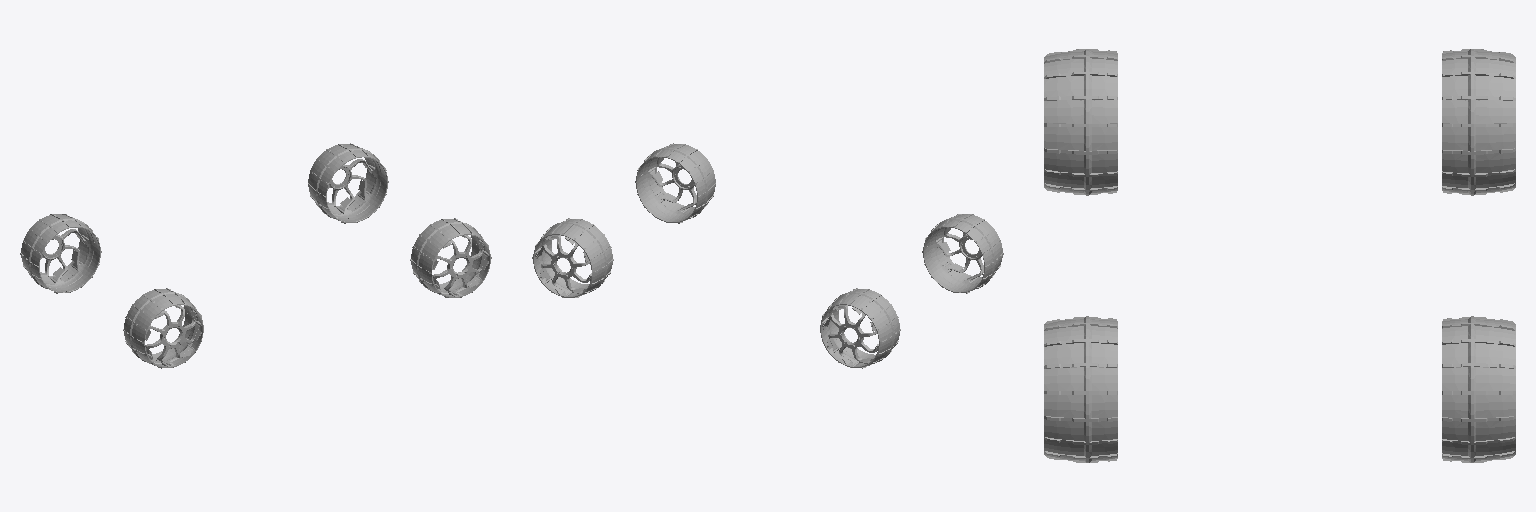
--- What the picture shows (computed from the rendered views, not written in the file) ---
Views: 3 orthographic renders of the robot side by side, from view 1: azimuth 30°, elevation 25°; view 2: azimuth 150°, elevation 25°; view 3: azimuth 270°, elevation 25°.
Model Archimede with 29 links and 28 joints (4 revolute, 4 continuous, 20 fixed), rooted at Archimede_base_link, posed all joints at 0.
Links seen in each view (by area): view 1: Archimede_br_wheel_link, Archimede_fl_wheel_link, Archimede_bl_wheel_link, Archimede_fr_wheel_link; view 2: Archimede_fr_wheel_link, Archimede_bl_wheel_link, Archimede_fl_wheel_link, Archimede_br_wheel_link; view 3: Archimede_fl_wheel_link, Archimede_bl_wheel_link, Archimede_fr_wheel_link, Archimede_br_wheel_link.
Boxes of the visible links, <box> form: Archimede_br_wheel_link: <box>123,288,203,368</box>; Archimede_fl_wheel_link: <box>308,143,388,223</box>; Archimede_bl_wheel_link: <box>20,214,101,293</box>; Archimede_fr_wheel_link: <box>410,218,491,297</box>; Archimede_fr_wheel_link: <box>635,143,715,223</box>; Archimede_bl_wheel_link: <box>820,288,900,368</box>; Archimede_fl_wheel_link: <box>532,218,613,297</box>; Archimede_br_wheel_link: <box>922,214,1003,293</box>; Archimede_fl_wheel_link: <box>1442,316,1515,462</box>; Archimede_bl_wheel_link: <box>1442,49,1515,195</box>; Archimede_fr_wheel_link: <box>1044,316,1117,462</box>; Archimede_br_wheel_link: <box>1044,49,1117,195</box>.
Size in the robot's own frame: 0.9009 by 0.5441 by 0.17 metres.
4 mesh visuals loaded from 3 distinct referenced files (1 binary STL); not drawn: 2 (reference not matched to a file when rendering).

robot.urdf — Archimede:
<?xml version="1.0" encoding="utf-8"?>
<!-- =================================================================================== -->
<!-- |    This document was autogenerated by xacro from rover.urdf.xacro               | -->
<!-- |    EDITING THIS FILE BY HAND IS NOT RECOMMENDED                                 | -->
<!-- =================================================================================== -->
<robot name="Archimede">
  <material name="black">
    <color rgba="0.0 0.0 0.0 1.0"/>
  </material>
  <material name="blue">
    <color rgba="0.0 0.0 0.8 1.0"/>
  </material>
  <material name="green">
    <color rgba="0.0 0.8 0.0 1.0"/>
  </material>
  <material name="gray">
    <color rgba="0.7 0.7 0.7 1.0"/>
  </material>
  <material name="darkgray">
    <color rgba="0.3 0.3 0.3 1.0"/>
  </material>
  <material name="red">
    <color rgba="0.8 0.0 0.0 1.0"/>
  </material>
  <material name="white">
    <color rgba="1.0 1.0 1.0 1.0"/>
  </material>
  <material name="yellow">
    <color rgba="0.8 0.8 0.0 1.0"/>
  </material>
  <material name="aluminum">
    <color rgba="0.5 0.5 0.5 1"/>
  </material>
  <material name="plastic">
    <color rgba="0.1 0.1 0.1 1"/>
  </material>
  <!-- Define world link-->
  <link name="Archimede_base_link"/>
  <!-- Define foot print-->
  <!-- <link name="${name}_foot_print"/>
		<joint name="${name}_foot_print_joint" type="fixed">
			<parent link="${name}_base_link_dummy"/>
			<child link="${name}_foot_print"/>
			<origin xyz="0 0 -0.16" rpy="0 0 0"/>
		</joint> -->
  <!-- <gazebo reference="${name}_foot_print_joint">
			<disableFixedJointLumping>true</disableFixedJointLumping> 
			<preserveFixedJoint>true</preserveFixedJoint>
		</gazebo> -->
  <!-- Define rover base link-->
  <link name="Archimede_base_link_dummy">
    <inertial>
      <mass value="1"/>
      <origin rpy="0 0 0" xyz="0 0 0"/>
      <inertia ixx="1.71402" ixy="0.0" ixz="0.0" iyy="0.8856" iyz="0.0" izz="2.5725"/>
    </inertial>
    <visual name="Archimede_body_visual">
      <origin rpy="0 0 0" xyz="0.005 0 0"/>
      <geometry>
        <mesh filename="package://robot4ws_description/meshes/rover_chassis_v7.STL" scale="1 1 1"/>
      </geometry>
      <material name="black"/>
    </visual>
  </link>
  <!-- Define here the joint of the tilt plate to the body -->
  <!-- Dummy joint link for the differential -->
  <!-- <xacro:if value="${has_differential}">
			<link name="${name}_dummy_disk">
				<inertial>
            		<origin xyz="0 0 0" rpy="0 0 0"/>
					<mass value="1e-1"/>
					<inertia ixx="1e-1" ixy="0" ixz="0" iyy="1e-1" iyz="0" izz="1e-1"/>
				</inertial>
				<visual>
					Use disk as simple geometry visualization
					<geometry>
						<cylinder radius="0.05" length="0.05"/>
						<box size="0.20 0.20 0.05"/>
					</geometry>
				</visual>
			</link>
		</xacro:if> -->
  <!-- Define here the joint of the dummy disk -->
  <!-- <xacro:if value="${has_differential}">
			<joint name="${name}_dummy_joint" type="revolute">
				<parent link="${name}_base_link_dummy"/>
				<child link="${name}_dummy_disk"/>
				<origin xyz="0 0 0" rpy="${-pi/2} 0 0"/>
				<axis xyz="0 0 1"/>
				<limit lower="0" upper="0" effort="1e6" velocity="1e6"/>
			</joint>
		</xacro:if> -->
  <!-- <xacro:if value="${has_differential}">
			<gazebo reference="{name}_dummy_joint">
				<disableFixedJointLumping>true</disableFixedJointLumping>
				<preserveFixedJoint>true</preserveFixedJoint>
			</gazebo>
		</xacro:if> -->
  <!-- Define here the color of the dummy disk -->
  <!-- <xacro:if value="${has_differential}">
			<gazebo reference="${name}_dummy_disk">
				<material>Gazebo/Blue</material>
			</gazebo>
		</xacro:if> -->
  <!-- DEFINE HERE THE IMU LINK -->
  <link name="Archimede_imu_link"/>
  <joint name="Archimede_imu_joint" type="fixed">
    <parent link="Archimede_base_link_dummy"/>
    <child link="Archimede_imu_link"/>
    <origin rpy="0 0 0" xyz="0 0 0.08"/>
  </joint>
  <!-- <gazebo reference="${name}_imu_joint">
			<disableFixedJointLumping>true</disableFixedJointLumping> 
			<preserveFixedJoint>true</preserveFixedJoint>
		</gazebo>  -->
  <!-- DEFINE HERE THE SCAN LINK -->
  <link name="Archimede_scan_link"/>
  <joint name="Archimede_scan_joint" type="fixed">
    <parent link="Archimede_base_link_dummy"/>
    <child link="Archimede_scan_link"/>
    <origin rpy="0 0 0" xyz="0 0 0.13"/>
  </joint>
  <!-- DEFINE HERE THE RASPBERRY PI CAMERA LINK -->
  <link name="Archimede_pi_camera_link"/>
  <joint name="Archimede_pi_camera_joint" type="fixed">
    <parent link="Archimede_base_link_dummy"/>
    <child link="Archimede_pi_camera_link"/>
    <origin rpy="0 0 0" xyz="0.15 0 0.075"/>
  </joint>
  <link name="Archimede_pi_camera_color_optical_frame"/>
  <joint name="Archimede_pi_camera_color_optical_joint" type="fixed">
    <parent link="Archimede_pi_camera_link"/>
    <child link="Archimede_pi_camera_color_optical_frame"/>
    <origin rpy="0 0 0" xyz="0 0 0.005"/>
  </joint>
  <link name="Archimede_realsense_d435i_link"/>
  <joint name="Archimede_realsense_joint" type="fixed">
    <parent link="Archimede_base_link_dummy"/>
    <child link="Archimede_realsense_d435i_link"/>
    <origin rpy="0 0 0" xyz="0.15 0 0.2"/>
  </joint>
  <!-- Define here the world joint -->
  <joint name="Archimede_world_joint" type="fixed">
    <parent link="Archimede_base_link"/>
    <child link="Archimede_base_link_dummy"/>
    <origin rpy="0 0 0" xyz="0 0 0"/>
    <axis xyz="0 0 1"/>
  </joint>
  <!-- <gazebo reference="${name}_world_joint">
			<preserveFixedJoint>false</preserveFixedJoint>
		</gazebo> -->
  <gazebo reference="Archimede_base_link">
    <material>Gazebo/Black</material>
  </gazebo>
  <!-- Define here steer link-->
  <link name="Archimede_fl_steer_link">
    <inertial>
      <origin rpy="0 0 0" xyz="0 0 0"/>
      <mass value="1"/>
      <inertia ixx="0.01" ixy="0" ixz="0" iyy="0.01" iyz="0" izz="0.01"/>
    </inertial>
  </link>
  <!-- Define here steer joint -->
  <joint name="Archimede_fl_steer_joint" type="revolute">
    <origin rpy="0 0 0.0" xyz="0.36574 0.2215 -0.07368"/>
    <parent link="Archimede_base_link_dummy"/>
    <child link="Archimede_fl_steer_link"/>
    <axis xyz="0 0 1"/>
    <limit effort="1e6" lower="-3.14" upper="3.14" velocity="1e6"/>
  </joint>
  <!-- Define here wheel link -->
  <link name="Archimede_fl_wheel_link">
    <inertial>
      <origin rpy="0 0 0" xyz="0 0 0"/>
      <mass value="1"/>
      <inertia ixx="0.05" ixy="0" ixz="0" iyy="0.05" iyz="0" izz="0.05"/>
    </inertial>
    <visual>
      <origin rpy="0 0 0" xyz="0 0.016 0"/>
      <geometry>
        <mesh filename="package://robot4ws_description/meshes/wheel_v2.STL" scale="1 1 1"/>
      </geometry>
      <material name="gray"/>
    </visual>
    <collision>
      <origin rpy="1.57079632679 0 0" xyz="0 0 0"/>
      <geometry>
        <sphere radius="0.085"/>
      </geometry>
      <surface>
        <friction>
          <ode>
            <!-- <mu>100.0</mu>
                            <mu2>100.0</mu2> -->
          </ode>
        </friction>
        <contact>
          <ode>
            <!-- <kp>1e8</kp>
                            <kd>1</kd>
                            <min_depth>0.001</min_depth> -->
          </ode>
        </contact>
      </surface>
    </collision>
  </link>
  <!-- Define here drive joint (RIVEDERE) -->
  <joint name="Archimede_fl_drive_joint" type="continuous">
    <origin rpy="0 0 0" xyz="0 0 0"/>
    <parent link="Archimede_fl_steer_link"/>
    <child link="Archimede_fl_wheel_link"/>
    <axis xyz="0 1 0"/>
  </joint>
  <gazebo reference="Archimede_fl_wheel_link">
    <material>Gazebo/Gray</material>
  </gazebo>
  <!-- Define here the transmission -->
  <transmission name="Archimede_fl_drive_transmission}">
    <type>transmission_interface/SimpleTransmission</type>
    <joint name="Archimede_fl_drive_joint">
      <hardwareInterface>hardware_interface/EffortJointInterface</hardwareInterface>
    </joint>
    <actuator name="Archimede_fl_drive_actuator}">
      <mechanicalReduction>1</mechanicalReduction>
    </actuator>
  </transmission>
  <transmission name="Archimede_fl_steer_transmission">
    <type>transmission_interface/SimpleTransmission</type>
    <joint name="Archimede_fl_steer_joint">
      <hardwareInterface>hardware_interface/EffortJointInterface</hardwareInterface>
    </joint>
    <actuator name="Archimede_fl_steer_actuator">
      <mechanicalReduction>1</mechanicalReduction>
    </actuator>
  </transmission>
  <!-- Define here steer link-->
  <link name="Archimede_bl_steer_link">
    <inertial>
      <origin rpy="0 0 0" xyz="0 0 0"/>
      <mass value="1"/>
      <inertia ixx="0.01" ixy="0" ixz="0" iyy="0.01" iyz="0" izz="0.01"/>
    </inertial>
  </link>
  <!-- Define here steer joint -->
  <joint name="Archimede_bl_steer_joint" type="revolute">
    <origin rpy="0 0 0.0" xyz="-0.36574 0.2215 -0.07368"/>
    <parent link="Archimede_base_link_dummy"/>
    <child link="Archimede_bl_steer_link"/>
    <axis xyz="0 0 1"/>
    <limit effort="1e6" lower="-3.14" upper="3.14" velocity="1e6"/>
  </joint>
  <!-- Define here wheel link -->
  <link name="Archimede_bl_wheel_link">
    <inertial>
      <origin rpy="0 0 0" xyz="0 0 0"/>
      <mass value="1"/>
      <inertia ixx="0.05" ixy="0" ixz="0" iyy="0.05" iyz="0" izz="0.05"/>
    </inertial>
    <visual>
      <origin rpy="0 0 0" xyz="0 0.016 0"/>
      <geometry>
        <mesh filename="package://robot4ws_description/meshes/wheel_v2.STL" scale="1 1 1"/>
      </geometry>
      <material name="gray"/>
    </visual>
    <collision>
      <origin rpy="1.57079632679 0 0" xyz="0 0 0"/>
      <geometry>
        <sphere radius="0.085"/>
      </geometry>
      <surface>
        <friction>
          <ode>
            <!-- <mu>100.0</mu>
                            <mu2>100.0</mu2> -->
          </ode>
        </friction>
        <contact>
          <ode>
            <!-- <kp>1e8</kp>
                            <kd>1</kd>
                            <min_depth>0.001</min_depth> -->
          </ode>
        </contact>
      </surface>
    </collision>
  </link>
  <!-- Define here drive joint (RIVEDERE) -->
  <joint name="Archimede_bl_drive_joint" type="continuous">
    <origin rpy="0 0 0" xyz="0 0 0"/>
    <parent link="Archimede_bl_steer_link"/>
    <child link="Archimede_bl_wheel_link"/>
    <axis xyz="0 1 0"/>
  </joint>
  <gazebo reference="Archimede_bl_wheel_link">
    <material>Gazebo/Gray</material>
  </gazebo>
  <!-- Define here the transmission -->
  <transmission name="Archimede_bl_drive_transmission}">
    <type>transmission_interface/SimpleTransmission</type>
    <joint name="Archimede_bl_drive_joint">
      <hardwareInterface>hardware_interface/EffortJointInterface</hardwareInterface>
    </joint>
    <actuator name="Archimede_bl_drive_actuator}">
      <mechanicalReduction>1</mechanicalReduction>
    </actuator>
  </transmission>
  <transmission name="Archimede_bl_steer_transmission">
    <type>transmission_interface/SimpleTransmission</type>
    <joint name="Archimede_bl_steer_joint">
      <hardwareInterface>hardware_interface/EffortJointInterface</hardwareInterface>
    </joint>
    <actuator name="Archimede_bl_steer_actuator">
      <mechanicalReduction>1</mechanicalReduction>
    </actuator>
  </transmission>
  <!-- Define here steer link-->
  <link name="Archimede_fr_steer_link">
    <inertial>
      <origin rpy="0 0 0" xyz="0 0 0"/>
      <mass value="1"/>
      <inertia ixx="0.01" ixy="0" ixz="0" iyy="0.01" iyz="0" izz="0.01"/>
    </inertial>
  </link>
  <!-- Define here steer joint -->
  <joint name="Archimede_fr_steer_joint" type="revolute">
    <origin rpy="0 0 -3.14159265359" xyz="0.36574 -0.2215 -0.07368"/>
    <parent link="Archimede_base_link_dummy"/>
    <child link="Archimede_fr_steer_link"/>
    <axis xyz="0 0 1"/>
    <limit effort="1e6" lower="-3.14" upper="3.14" velocity="1e6"/>
  </joint>
  <!-- Define here wheel link -->
  <link name="Archimede_fr_wheel_link">
    <inertial>
      <origin rpy="0 0 0" xyz="0 0 0"/>
      <mass value="1"/>
      <inertia ixx="0.05" ixy="0" ixz="0" iyy="0.05" iyz="0" izz="0.05"/>
    </inertial>
    <visual>
      <origin rpy="0 0 0" xyz="0 0.016 0"/>
      <geometry>
        <mesh filename="package://robot4ws_description/meshes/wheel_v2.STL" scale="1 1 1"/>
      </geometry>
      <material name="gray"/>
    </visual>
    <collision>
      <origin rpy="1.57079632679 0 0" xyz="0 0 0"/>
      <geometry>
        <sphere radius="0.085"/>
      </geometry>
      <surface>
        <friction>
          <ode>
            <!-- <mu>100.0</mu>
                            <mu2>100.0</mu2> -->
          </ode>
        </friction>
        <contact>
          <ode>
            <!-- <kp>1e8</kp>
                            <kd>1</kd>
                            <min_depth>0.001</min_depth> -->
          </ode>
        </contact>
      </surface>
    </collision>
  </link>
  <!-- Define here drive joint (RIVEDERE) -->
  <joint name="Archimede_fr_drive_joint" type="continuous">
    <origin rpy="0 0 0" xyz="0 0 0"/>
    <parent link="Archimede_fr_steer_link"/>
    <child link="Archimede_fr_wheel_link"/>
    <axis xyz="0 1 0"/>
  </joint>
  <gazebo reference="Archimede_fr_wheel_link">
    <material>Gazebo/Gray</material>
  </gazebo>
  <!-- Define here the transmission -->
  <transmission name="Archimede_fr_drive_transmission}">
    <type>transmission_interface/SimpleTransmission</type>
    <joint name="Archimede_fr_drive_joint">
      <hardwareInterface>hardware_interface/EffortJointInterface</hardwareInterface>
    </joint>
    <actuator name="Archimede_fr_drive_actuator}">
      <mechanicalReduction>1</mechanicalReduction>
    </actuator>
  </transmission>
  <transmission name="Archimede_fr_steer_transmission">
    <type>transmission_interface/SimpleTransmission</type>
    <joint name="Archimede_fr_steer_joint">
      <hardwareInterface>hardware_interface/EffortJointInterface</hardwareInterface>
    </joint>
    <actuator name="Archimede_fr_steer_actuator">
      <mechanicalReduction>1</mechanicalReduction>
    </actuator>
  </transmission>
  <!-- Define here steer link-->
  <link name="Archimede_br_steer_link">
    <inertial>
      <origin rpy="0 0 0" xyz="0 0 0"/>
      <mass value="1"/>
      <inertia ixx="0.01" ixy="0" ixz="0" iyy="0.01" iyz="0" izz="0.01"/>
    </inertial>
  </link>
  <!-- Define here steer joint -->
  <joint name="Archimede_br_steer_joint" type="revolute">
    <origin rpy="0 0 -3.14159265359" xyz="-0.36574 -0.2215 -0.07368"/>
    <parent link="Archimede_base_link_dummy"/>
    <child link="Archimede_br_steer_link"/>
    <axis xyz="0 0 1"/>
    <limit effort="1e6" lower="-3.14" upper="3.14" velocity="1e6"/>
  </joint>
  <!-- Define here wheel link -->
  <link name="Archimede_br_wheel_link">
    <inertial>
      <origin rpy="0 0 0" xyz="0 0 0"/>
      <mass value="1"/>
      <inertia ixx="0.05" ixy="0" ixz="0" iyy="0.05" iyz="0" izz="0.05"/>
    </inertial>
    <visual>
      <origin rpy="0 0 0" xyz="0 0.016 0"/>
      <geometry>
        <mesh filename="package://robot4ws_description/meshes/wheel_v2.STL" scale="1 1 1"/>
      </geometry>
      <material name="gray"/>
    </visual>
    <collision>
      <origin rpy="1.57079632679 0 0" xyz="0 0 0"/>
      <geometry>
        <sphere radius="0.085"/>
      </geometry>
      <surface>
        <friction>
          <ode>
            <!-- <mu>100.0</mu>
                            <mu2>100.0</mu2> -->
          </ode>
        </friction>
        <contact>
          <ode>
            <!-- <kp>1e8</kp>
                            <kd>1</kd>
                            <min_depth>0.001</min_depth> -->
          </ode>
        </contact>
      </surface>
    </collision>
  </link>
  <!-- Define here drive joint (RIVEDERE) -->
  <joint name="Archimede_br_drive_joint" type="continuous">
    <origin rpy="0 0 0" xyz="0 0 0"/>
    <parent link="Archimede_br_steer_link"/>
    <child link="Archimede_br_wheel_link"/>
    <axis xyz="0 1 0"/>
  </joint>
  <gazebo reference="Archimede_br_wheel_link">
    <material>Gazebo/Gray</material>
  </gazebo>
  <!-- Define here the transmission -->
  <transmission name="Archimede_br_drive_transmission}">
    <type>transmission_interface/SimpleTransmission</type>
    <joint name="Archimede_br_drive_joint">
      <hardwareInterface>hardware_interface/EffortJointInterface</hardwareInterface>
    </joint>
    <actuator name="Archimede_br_drive_actuator}">
      <mechanicalReduction>1</mechanicalReduction>
    </actuator>
  </transmission>
  <transmission name="Archimede_br_steer_transmission">
    <type>transmission_interface/SimpleTransmission</type>
    <joint name="Archimede_br_steer_joint">
      <hardwareInterface>hardware_interface/EffortJointInterface</hardwareInterface>
    </joint>
    <actuator name="Archimede_br_steer_actuator">
      <mechanicalReduction>1</mechanicalReduction>
    </actuator>
  </transmission>
  <!-- camera body, with origin at bottom screw mount -->
  <joint name="rs_d435i_joint" type="fixed">
    <origin rpy="0 0 0" xyz="0 0 0"/>
    <parent link="Archimede_realsense_d435i_link"/>
    <child link="rs_d435i_bottom_screw_frame"/>
  </joint>
  <link name="rs_d435i_bottom_screw_frame"/>
  <joint name="rs_d435i_link_joint" type="fixed">
    <origin rpy="0 0 0" xyz="0.0106 0.0175 0.0125"/>
    <parent link="rs_d435i_bottom_screw_frame"/>
    <child link="rs_d435i_link"/>
  </joint>
  <link name="rs_d435i_link">
    <visual>
      <!-- the mesh origin is at front plate in between the two infrared camera axes -->
      <origin rpy="1.57079632679 0 1.57079632679" xyz="0.0043 -0.0175 0"/>
      <geometry>
        <mesh filename="package://realsense2_description/meshes/d435.dae"/>
      </geometry>
    </visual>
    <collision>
      <origin rpy="0 0 0" xyz="0 -0.0175 0"/>
      <geometry>
        <box size="0.02505 0.09 0.025"/>
      </geometry>
    </collision>
    <inertial>
      <!-- The following are not reliable values, and should not be used for modeling -->
      <mass value="0.072"/>
      <origin xyz="0 0 0"/>
      <inertia ixx="0.003881243" ixy="0.0" ixz="0.0" iyy="0.000498940" iyz="0.0" izz="0.003879257"/>
    </inertial>
  </link>
  <!-- camera depth joints and links -->
  <joint name="rs_d435i_depth_joint" type="fixed">
    <origin rpy="0 0 0" xyz="0 0 0"/>
    <parent link="rs_d435i_link"/>
    <child link="rs_d435i_depth_frame"/>
  </joint>
  <link name="rs_d435i_depth_frame"/>
  <joint name="rs_d435i_depth_optical_joint" type="fixed">
    <origin rpy="-1.57079632679 0 -1.57079632679" xyz="0 0 0"/>
    <parent link="rs_d435i_depth_frame"/>
    <child link="rs_d435i_depth_optical_frame"/>
  </joint>
  <link name="rs_d435i_depth_optical_frame"/>
  <!-- camera left IR joints and links -->
  <joint name="rs_d435i_infra1_joint" type="fixed">
    <origin rpy="0 0 0" xyz="0 0.0 0"/>
    <parent link="rs_d435i_link"/>
    <child link="rs_d435i_infra1_frame"/>
  </joint>
  <link name="rs_d435i_infra1_frame"/>
  <joint name="rs_d435i_infra1_optical_joint" type="fixed">
    <origin rpy="-1.57079632679 0 -1.57079632679" xyz="0 0 0"/>
    <parent link="rs_d435i_infra1_frame"/>
    <child link="rs_d435i_infra1_optical_frame"/>
  </joint>
  <link name="rs_d435i_infra1_optical_frame"/>
  <!-- camera right IR joints and links -->
  <joint name="rs_d435i_infra2_joint" type="fixed">
    <origin rpy="0 0 0" xyz="0 -0.05 0"/>
    <parent link="rs_d435i_link"/>
    <child link="rs_d435i_infra2_frame"/>
  </joint>
  <link name="rs_d435i_infra2_frame"/>
  <joint name="rs_d435i_infra2_optical_joint" type="fixed">
    <origin rpy="-1.57079632679 0 -1.57079632679" xyz="0 0 0"/>
    <parent link="rs_d435i_infra2_frame"/>
    <child link="rs_d435i_infra2_optical_frame"/>
  </joint>
  <link name="rs_d435i_infra2_optical_frame"/>
  <!-- camera color joints and links -->
  <joint name="rs_d435i_color_joint" type="fixed">
    <origin rpy="0 0 0" xyz="0 0.015 0"/>
    <parent link="rs_d435i_link"/>
    <child link="rs_d435i_color_frame"/>
  </joint>
  <link name="rs_d435i_color_frame"/>
  <joint name="rs_d435i_color_optical_joint" type="fixed">
    <origin rpy="-1.57079632679 0 -1.57079632679" xyz="0 0 0"/>
    <parent link="rs_d435i_color_frame"/>
    <child link="rs_d435i_color_optical_frame"/>
  </joint>
  <link name="rs_d435i_color_optical_frame"/>
  <gazebo reference="rs_d435i_link">
    <self_collide>0</self_collide>
    <enable_wind>0</enable_wind>
    <kinematic>0</kinematic>
    <gravity>1</gravity>
    <!--<mu>1</mu>-->
    <mu2>1</mu2>
    <fdir1>0 0 0</fdir1>
    <!--<slip1>0</slip1>
      <slip2>0</slip2>-->
    <kp>1e+13</kp>
    <kd>1</kd>
    <!--<max_vel>0.01</max_vel>
      <min_depth>0</min_depth>-->
    <sensor name="rs_d435icolor" type="camera">
      <camera name="rs_d435i">
        <horizontal_fov>1.21125850088</horizontal_fov>
        <image>
          <width>640</width>
          <height>480</height>
          <format>RGB_INT8</format>
        </image>
        <clip>
          <near>0.1</near>
          <far>100</far>
        </clip>
        <noise>
          <type>gaussian</type>
          <mean>0.0</mean>
          <stddev>0.007</stddev>
        </noise>
      </camera>
      <always_on>1</always_on>
      <update_rate>30</update_rate>
      <visualize>1</visualize>
    </sensor>
    <sensor name="rs_d435iired1" type="camera">
      <camera name="rs_d435i">
        <horizontal_fov>1.4870205227</horizontal_fov>
        <image>
          <width>1280</width>
          <height>720</height>
          <format>L_INT8</format>
        </image>
        <clip>
          <near>0.1</near>
          <far>100</far>
        </clip>
        <noise>
          <type>gaussian</type>
          <mean>0.0</mean>
          <stddev>0.05</stddev>
        </noise>
      </camera>
      <always_on>1</always_on>
      <update_rate>90</update_rate>
      <visualize>0</visualize>
    </sensor>
    <sensor name="rs_d435iired2" type="camera">
      <camera name="rs_d435i">
        <horizontal_fov>1.4870205227</horizontal_fov>
        <image>
          <width>1280</width>
          <height>720</height>
          <format>L_INT8</format>
        </image>
        <clip>
          <near>0.1</near>
          <far>100</far>
        </clip>
        <noise>
          <type>gaussian</type>
          <mean>0.0</mean>
          <stddev>0.05</stddev>
        </noise>
      </camera>
      <always_on>1</always_on>
      <update_rate>90</update_rate>
      <visualize>0</visualize>
    </sensor>
    <sensor name="rs_d435idepth" type="depth">
      <camera name="rs_d435i">
        <horizontal_fov>1.4870205227</horizontal_fov>
        <image>
          <!-- <width>1280</width>
            <height>720</height> -->
          <width>640</width>
          <height>360</height>
        </image>
        <clip>
          <near>0.1</near>
          <far>100</far>
        </clip>
        <noise>
          <type>gaussian</type>
          <mean>0.0</mean>
          <stddev>0.100</stddev>
        </noise>
      </camera>
      <always_on>1</always_on>
      <!-- <update_rate>90</update_rate> -->
      <update_rate>15</update_rate>
      <visualize>0</visualize>
    </sensor>
  </gazebo>
  <gazebo>
    <plugin filename="librealsense_gazebo_plugin.so" name="Archimede/d435i_camera">
      <prefix>rs_d435i</prefix>
      <depthUpdateRate>30.0</depthUpdateRate>
      <colorUpdateRate>30.0</colorUpdateRate>
      <infraredUpdateRate>30.0</infraredUpdateRate>
      <depthTopicName>depth/image_raw</depthTopicName>
      <depthCameraInfoTopicName>depth/camera_info</depthCameraInfoTopicName>
      <colorTopicName>color/image_raw</colorTopicName>
      <colorCameraInfoTopicName>color/camera_info</colorCameraInfoTopicName>
      <infrared1TopicName>infra1/image_raw</infrared1TopicName>
      <infrared1CameraInfoTopicName>infra1/camera_info</infrared1CameraInfoTopicName>
      <infrared2TopicName>infra2/image_raw</infrared2TopicName>
      <infrared2CameraInfoTopicName>infra2/camera_info</infrared2CameraInfoTopicName>
      <colorOpticalframeName>rs_d435i_color_optical_frame</colorOpticalframeName>
      <depthOpticalframeName>rs_d435i_depth_optical_frame</depthOpticalframeName>
      <infrared1OpticalframeName>rs_d435i_left_ir_optical_frame</infrared1OpticalframeName>
      <infrared2OpticalframeName>rs_d435i_right_ir_optical_frame</infrared2OpticalframeName>
      <rangeMinDepth>0.2</rangeMinDepth>
      <rangeMaxDepth>10.0</rangeMaxDepth>
      <pointCloud>True</pointCloud>
      <pointCloudTopicName>depth/color/points</pointCloudTopicName>
      <pointCloudCutoff>0.25</pointCloudCutoff>
      <pointCloudCutoffMax>9.0</pointCloudCutoffMax>
    </plugin>
  </gazebo>
  <link name="rs_d435i_accel_frame"/>
  <link name="rs_d435i_accel_optical_frame"/>
  <link name="rs_d435i_gyro_frame"/>
  <link name="rs_d435i_gyro_optical_frame"/>
  <joint name="rs_d435i_accel_joint" type="fixed">
    <origin rpy="0 0 0" xyz="-0.01174 -0.00552 0.0051"/>
    <parent link="rs_d435i_link"/>
    <child link="rs_d435i_accel_frame"/>
  </joint>
  <joint name="rs_d435i_accel_optical_joint" type="fixed">
    <origin rpy="-1.57079632679 0 -1.57079632679" xyz="0 0 0"/>
    <parent link="rs_d435i_accel_frame"/>
    <child link="rs_d435i_accel_optical_frame"/>
  </joint>
  <joint name="rs_d435i_gyro_joint" type="fixed">
    <origin rpy="0 0 0" xyz="-0.01174 -0.00552 0.0051"/>
    <parent link="rs_d435i_link"/>
    <child link="rs_d435i_gyro_frame"/>
  </joint>
  <joint name="rs_d435i_gyro_optical_joint" type="fixed">
    <origin rpy="-1.57079632679 0 -1.57079632679" xyz="0 0 0"/>
    <parent link="rs_d435i_gyro_frame"/>
    <child link="rs_d435i_gyro_optical_frame"/>
  </joint>
  <gazebo reference="Archimede_imu_link">
    <sensor name="imu" type="imu">
      <always_on>true</always_on>
      <visualize>true</visualize>
    </sensor>
    <material>Gazebo/Grey</material>
  </gazebo>
  <gazebo reference="Archimede_scan_link">
    <material>Gazebo/FlatBlack</material>
    <sensor name="lds_lfcd_sensor" type="ray">
      <pose>0 0 0 0 0 0</pose>
      <visualize>true</visualize>
      <update_rate>5</update_rate>
      <ray>
        <scan>
          <horizontal>
            <samples>360</samples>
            <resolution>1</resolution>
            <min_angle>0.0</min_angle>
            <max_angle>6.28319</max_angle>
          </horizontal>
        </scan>
        <range>
          <min>1</min>
          <max>5</max>
          <resolution>0.015</resolution>
        </range>
        <noise>
          <type>gaussian</type>
          <mean>0.0</mean>
          <stddev>0.01</stddev>
        </noise>
      </ray>
      <plugin filename="libgazebo_ros_laser.so" name="gazebo_ros_lds_lfcd_controller">
        <topicName>Archimede/scan</topicName>
        <frameName>Archimede_scan_link</frameName>
      </plugin>
    </sensor>
  </gazebo>
  <gazebo reference="Archimede_pi_camera_link">
    <sensor name="Archimede_raspi_camera" type="camera">
      <always_on>true</always_on>
      <visualize>true</visualize>
      <camera>
        <horizontal_fov>1.085595</horizontal_fov>
        <image>
          <width>640</width>
          <height>480</height>
          <format>R8G8B8</format>
        </image>
        <clip>
          <near>0.03</near>
          <far>100</far>
        </clip>
      </camera>
      <plugin filename="libgazebo_ros_camera.so" name="camera_controller">
        <alwaysOn>true</alwaysOn>
        <updateRate>30.0</updateRate>
        <cameraName>/Archimede/pi_camera</cameraName>
        <frameName>Archimede_pi_camera_color_optical_frame</frameName>
        <imageTopicName>rgb/image_raw</imageTopicName>
        <cameraInfoTopicName>rgb/camera_info</cameraInfoTopicName>
        <hackBaseline>0.07</hackBaseline>
        <distortionK1>0.0</distortionK1>
        <distortionK2>0.0</distortionK2>
        <distortionK3>0.0</distortionK3>
        <distortionT1>0.0</distortionT1>
        <distortionT2>0.0</distortionT2>
      </plugin>
    </sensor>
  </gazebo>
  <!-- <gazebo reference="${name}_realsense_d435i_link">
            <sensor name="${name}_d435i_color" type="camera">
                <camera name="${name}_d435i">
      <gazebo reference="${name}_imu_link">
            <sensor type="imu" name="imu">
            <always_on>true</always_on>
            <visualize>$(arg visualize_imu)</visualize>
            </sensor>
            <material>Gazebo/Grey</material>
        </gazebo>          <horizontal_fov>1.2112585008840648</horizontal_fov>
                <image>
                    <width>1920</width>
                    <height>1080</height>
                    <format>RGB_INT8</format>
                </image>
                <clip>
                    <near>0.1</near>
                    <far>100</far>
                </clip>
                <noise>
                    <type>gaussian</type>
                    <mean>0.0</mean>
                    <stddev>0.007</stddev>
                </noise>
                </camera>
                <always_on>1</always_on>
                <update_rate>30</update_rate>
                <visualize>1</visualize>
            </sensor>
            <sensor name="${name}_d435i_infrared_1" type="camera">
                <camera name="${name}_d435i">
                <horizontal_fov>1.4870205226991688</horizontal_fov>
                <image>
                    <width>1280</width>
                    <height>720</height>
                    <format>L_INT8</format>
                </image>
                <clip>
                    <near>0.1</near>
                    <far>100</far>
                </clip>
                <noise>
                    <type>gaussian</type>
                    <mean>0.0</mean>
                    <stddev>0.05</stddev>
                </noise>
                </camera>
                <always_on>1</always_on>
                <update_rate>90</update_rate>
                <visualize>0</visualize>
            </sensor>
            <sensor name="${name}_d435i_infrared_2" type="camera">
                <camera name="${name}_d435i">
                <horizontal_fov>1.4870205226991688</horizontal_fov>
                <image>
                   <gazebo reference="${name}_imu_link">
            <sensor type="imu" name="imu">
            <always_on>true</always_on>
            <visualize>$(arg visualize_imu)</visualize>
            </sensor>
            <material>Gazebo/Grey</material>
        </gazebo> <width>1280</width>
                    <height>720</height>
                    <format>L_INT8</format>
                </image>
                <clip>
                    <near>0.1</near>
                    <far>100</far>
                </clip>
                <noise>
                   <gazebo reference="${name}_imu_link">
            <sensor type="imu" name="imu">
            <always_on>true</always_on>
            <visualize>$(arg visualize_imu)</visualize>
            </sensor>
            <material>Gazebo/Grey</material>
        </gazebo> <type>gaussian</type>
                    <mean>0.0</mean>
                    <stddev>0.05</stddev>
                </noise>
                </camera>
                <always_on>1</always_on>
                <update_rate>90</update_rate>
                <visualize>0</visualize>
            </sensor>
            <sensor name="${name}_d435i_depth" type="depth">
                <camera name="${name}_d435i">
      <gazebo reference="${name}_imu_link">
            <sensor type="imu" name="imu">
            <always_on>true</always_on>
            <visualize>$(arg visualize_imu)</visualize>
            </sensor>
            <material>Gazebo/Grey</material>
        </gazebo>          <horizontal_fov>1.4870205226991688</horizontal_fov>
                <image>
                    <width>1280</width>
                    <height>720</height>
                </image>
                <clip>
                    <near>0.1</near>
                    <far>100</far>
                </clip>
                <noise>
                    <type>gaussian</type>
                    <mean>0.0</mean>
                    <stddev>0.100</stddev>
                </noise>
                </camera>
                <always_on>1</always_on>
                <update_rate>90</update_rate>
                <visualize>0</visualize>
            </sensor>
        </gazebo> -->
  <gazebo>
    <plugin filename="libgazebo_ros_control.so" name="gazebo_ros_control">
      <robotNamespace>/Archimede</robotNamespace>
      <robotSimType>gazebo_ros_control/DefaultRobotHWSim</robotSimType>
      <legacyModeNS>true</legacyModeNS>
    </plugin>
  </gazebo>
  <gazebo>
    <plugin filename="libarchimede_kinematics_gazebo_ros_simulation_plugin.so" name="Archimede_kinematic_plugin"/>
  </gazebo>
  <gazebo>
    <plugin filename="libarchimede_odometry_gazebo_plugin.so" name="Archimede_odometry_plugin">
      <integrator>Trapezi</integrator>
      <odomTopicName>Archimede/odom</odomTopicName>
      <odomQueSize>100</odomQueSize>
      <odomFrameName>odom</odomFrameName>
      <odomPublishRate>10</odomPublishRate>
      <baseLinkFrameName>Archimede_foot_print</baseLinkFrameName>
      <useFakePublishers>true</useFakePublishers>
      <motorCurrentTopicName>Archimede/motor_current</motorCurrentTopicName>
      <motorTemperatureTopicName>Archimede/motor_temperature</motorTemperatureTopicName>
      <soundTopicName>Archimede/sound</soundTopicName>
      <JointStateTopicName>Archimede/JointStateFake</JointStateTopicName>
      <SensorStateTopicName>Archimede/sensor_state</SensorStateTopicName>
      <OdomMode>position</OdomMode>
      <skipFrames>1</skipFrames>
    </plugin>
  </gazebo>
  <!-- INCLUDE HERE PLUGIN FOR IMU -->
  <!-- <gazebo>
            <plugin name="imu_plugin" filename="libgazebo_ros_imu.so">
            <alwaysOn>true</alwaysOn>
            <bodyName>${name}_imu_link</bodyName>
            <frameName>${name}_imu_link</frameName>
            <topicName>${name}/imu</topicName>
            <serviceName>imu_service</serviceName>
            <gaussianNoise>0.0</gaussianNoise>
            <updateRate>100</updateRate>
            <imu>
                <noise>
                <type>gaussian</type>
                <rate>
                    <mean>0.0</mean>
                    <stddev>2e-4</stddev>
                    <bias_mean>0.0000075</bias_mean>
                    <bias_stddev>0.0000008</bias_stddev>
                </rate>
                <accel>
                    <mean>0.0</mean>
                    <stddev>1.7e-2</stddev>
                    <bias_mean>0.1</bias_mean>
                    <bias_stddev>0.001</bias_stddev>
                </accel>
                </noise>
            </imu>
            </plugin>
        </gazebo> -->
  <!-- Try with hector gazebo plugin hector_gazebo_ros_imu-->
  <gazebo>
    <plugin filename="libhector_gazebo_ros_imu.so" name="Archimede_imu_sim">
      <updateRate>100</updateRate>
      <!-- <robotNamespace></robotNamespace> -->
      <bodyName>Archimede_imu_link</bodyName>
      <frameId>Archimede_imu_link</frameId>
      <topicName>Archimede/imu</topicName>
      <accelOffset>0 0 0</accelOffset>
      <accelDrift>0 0 0</accelDrift>
      <accelGaussianNoise>0 0 0</accelGaussianNoise>
      <rateOffset>0 0 0</rateOffset>
      <rateDrift>0 0 0</rateDrift>
      <rateGaussianNoise>0 0 0</rateGaussianNoise>
      <yawOffset>0</yawOffset>
      <yawDrift>0</yawDrift>
      <yawGaussianNoise>0</yawGaussianNoise>
    </plugin>
  </gazebo>
  <!-- <gazebo reference="${name}_imu_link">
            <gravity>true</gravity>
            <sensor name="imu_sensor" type="imu">
            <always_on>true</always_on>
            <update_rate>100</update_rate>
            <visualize>true</visualize>
            <topic>__default_topic__</topic>
            <plugin filename="libgazebo_ros_imu_sensor.so" name="imu_plugin">
                <topicName>${name}/imu</topicName>
                <bodyName>${name}_imu_link</bodyName>
                <updateRateHZ>10.0</updateRateHZ>
                <gaussianNoise>0.0</gaussianNoise>
                <xyzOffset>0 0 0</xyzOffset>
                <rpyOffset>0 0 0</rpyOffset>
                <frameName>${name}_imu_link</frameName>
                <initialOrientationAsReference>false</initialOrientationAsReference>
            </plugin>
            <pose>0 0 0 0 0 0</pose>
            </sensor>
        </gazebo>  -->
  <!-- <gazebo>
            <plugin name="${name}_get_body_pose" filename="libarchimede_get_link_state.so">
                <saveDir>$(find robot4ws_simulations)/data</saveDir>
                <linkName>${name}_base_link</linkName>
                <readCOG>false</readCOG>
                <worldMode>true</worldMode>
            </plugin>
        </gazebo>


        <gazebo>
            <plugin name="${name}_get_fr_steer_hub_pose" filename="libarchimede_get_link_state.so">
                <saveDir>$(find robot4ws_simulations)/data</saveDir>
                <linkName>${name}_fr_steer_link</linkName>
                <readCOG>false</readCOG>
                <worldMode>false</worldMode>
            </plugin>
        </gazebo> -->
  <gazebo>
    <plugin filename="libhector_gazebo_ros_magnetic.so" name="Archimede_magetic_sensor">
      <updateRate>100</updateRate>
      <robotNamespace>Archimede</robotNamespace>
      <bodyName>Archimede_imu_link</bodyName>
      <topicName>magnetic_field</topicName>
    </plugin>
  </gazebo>
</robot>
